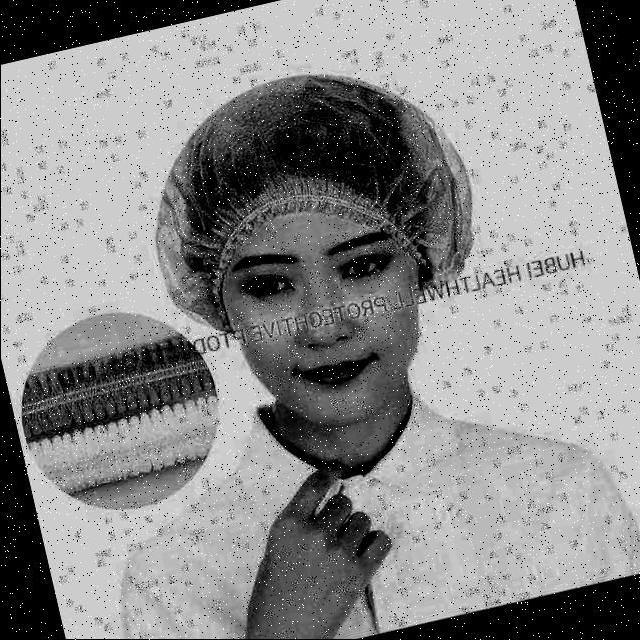no_apron: (217, 469, 437, 640)
no_hairnet: (246, 284, 384, 380)
